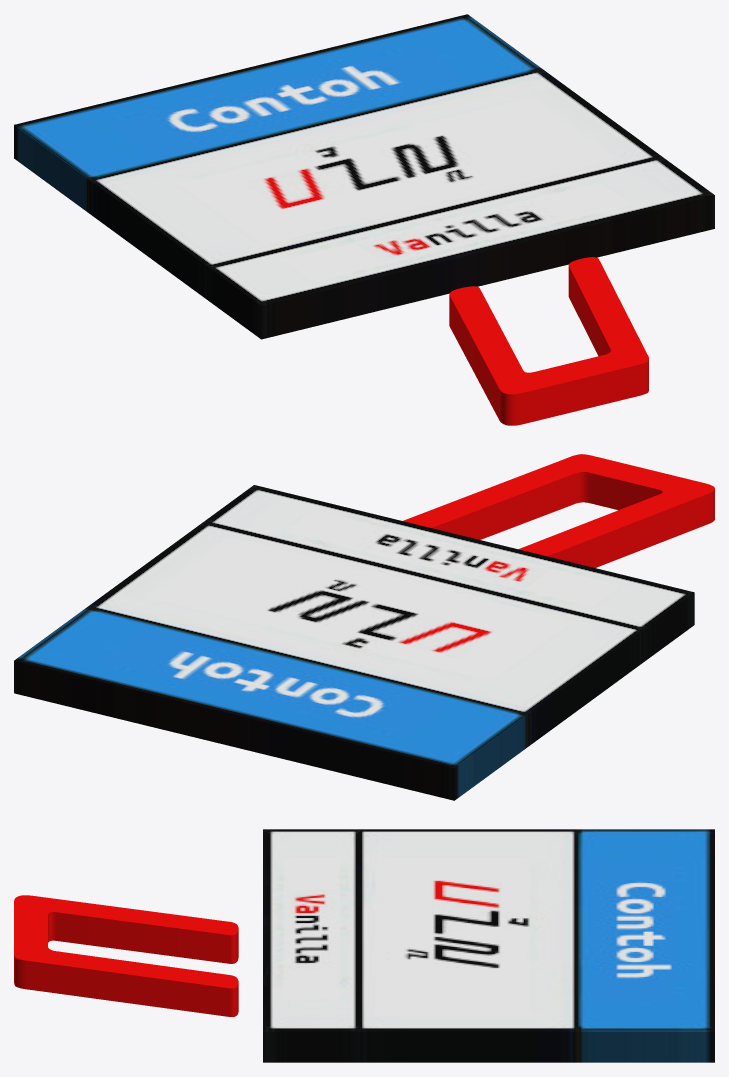
3 renders of one model, top to bottom at view 1: azimuth 30°, elevation 25°; view 2: azimuth 150°, elevation 25°; view 3: azimuth 270°, elevation 25°, orthographic. The views are drawn at different scales.
Parts seen in each view (by area): view 1: contoh-bunyi-huruf-va-Ngalagena, Text; view 2: contoh-bunyi-huruf-va-Ngalagena, Text; view 3: contoh-bunyi-huruf-va-Ngalagena, Text.
Boxes of the visible parts, x1,y1,x2,y2 form: contoh-bunyi-huruf-va-Ngalagena: [14, 14, 714, 339]; Text: [449, 257, 648, 425]; contoh-bunyi-huruf-va-Ngalagena: [14, 485, 694, 800]; Text: [403, 454, 714, 567]; contoh-bunyi-huruf-va-Ngalagena: [263, 829, 714, 1062]; Text: [14, 895, 238, 1016].
Bounding box in the file's own units: 1.06 × 0.11 × 1.55.
2 materials, 1 textured.
